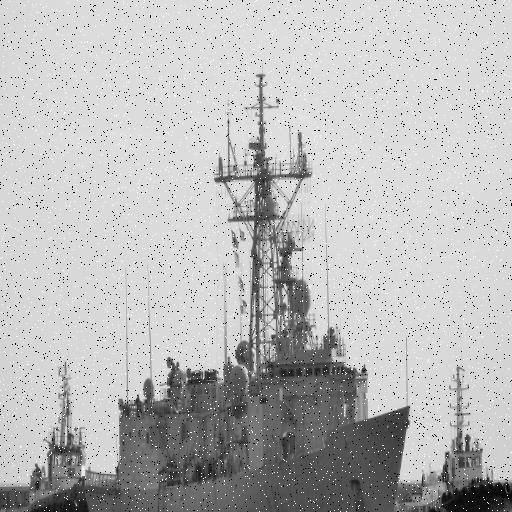Fragata: (82, 57, 412, 512)
